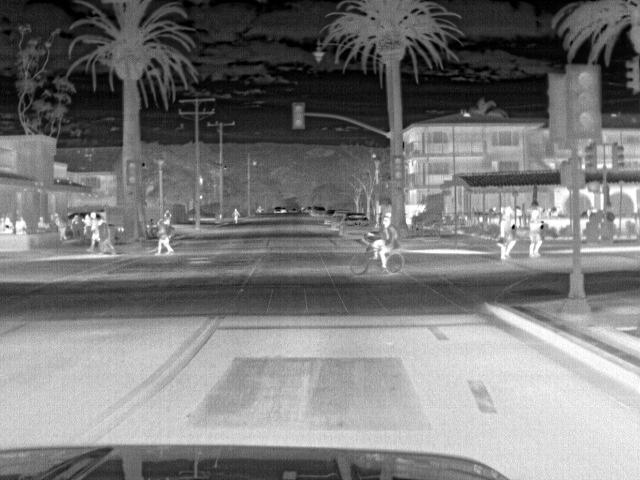car: (338, 218, 373, 239), (328, 210, 356, 230), (307, 204, 328, 218)
person: (367, 210, 397, 276), (495, 205, 519, 257), (527, 209, 546, 261), (82, 209, 103, 252), (153, 219, 176, 254), (54, 213, 70, 243), (35, 215, 53, 234), (230, 205, 242, 225)
